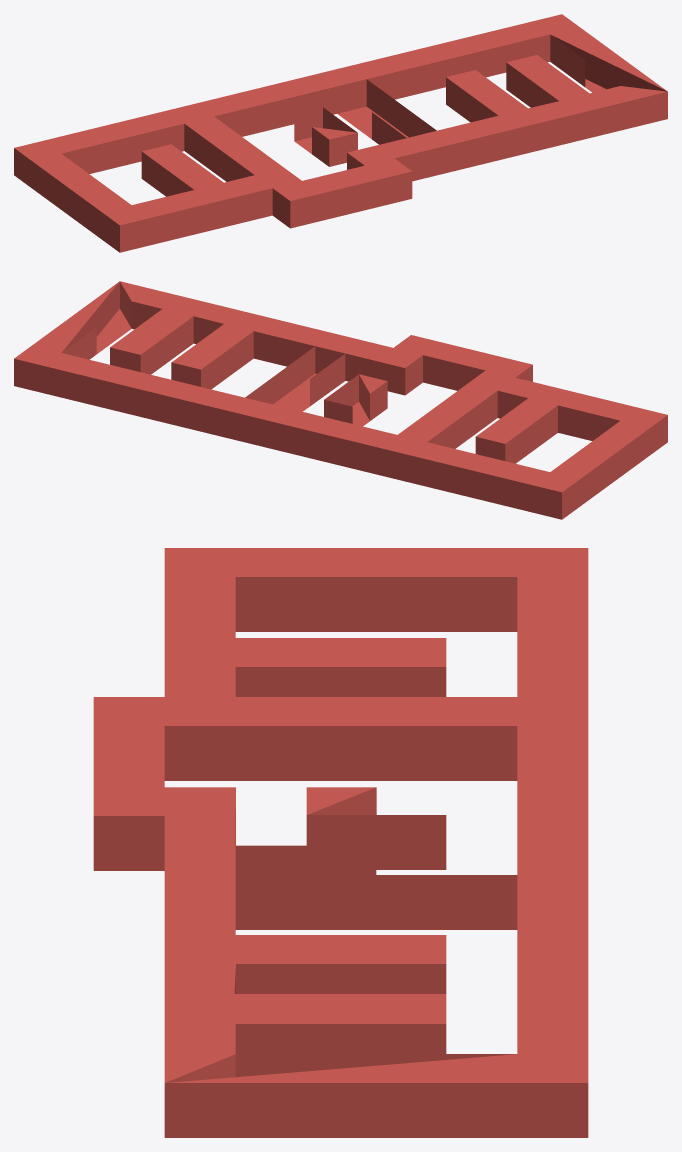
The model's file is npm.glb.
3 renders of one model, top to bottom at view 1: azimuth 30°, elevation 25°; view 2: azimuth 150°, elevation 25°; view 3: azimuth 270°, elevation 25°, orthographic. The views are drawn at different scales.
Visible parts, largest first — view 1: Curve; view 2: Curve; view 3: Curve.
Part boxes in pixels (left/top/right/bottom): Curve: left=14, top=14, right=667, bottom=252; Curve: left=14, top=281, right=667, bottom=519; Curve: left=93, top=548, right=588, bottom=1137.
Size of the model in its own units: 0.00885 by 0.000423 by 0.00346.
